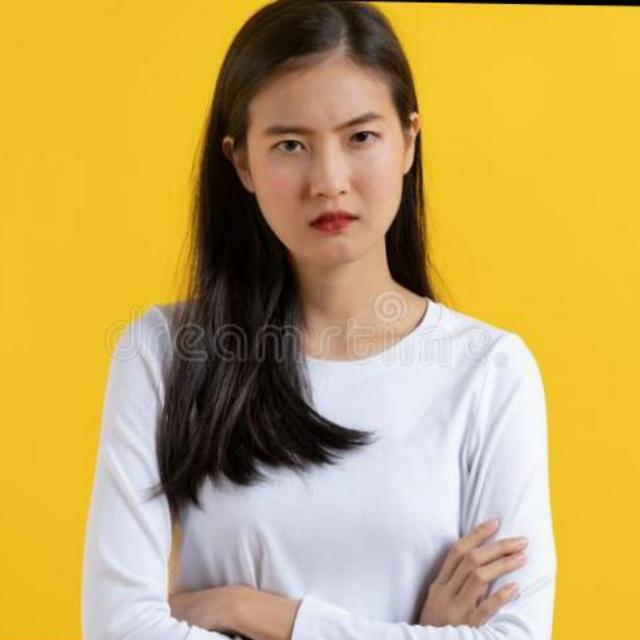Angry: (164, 15, 514, 274)
